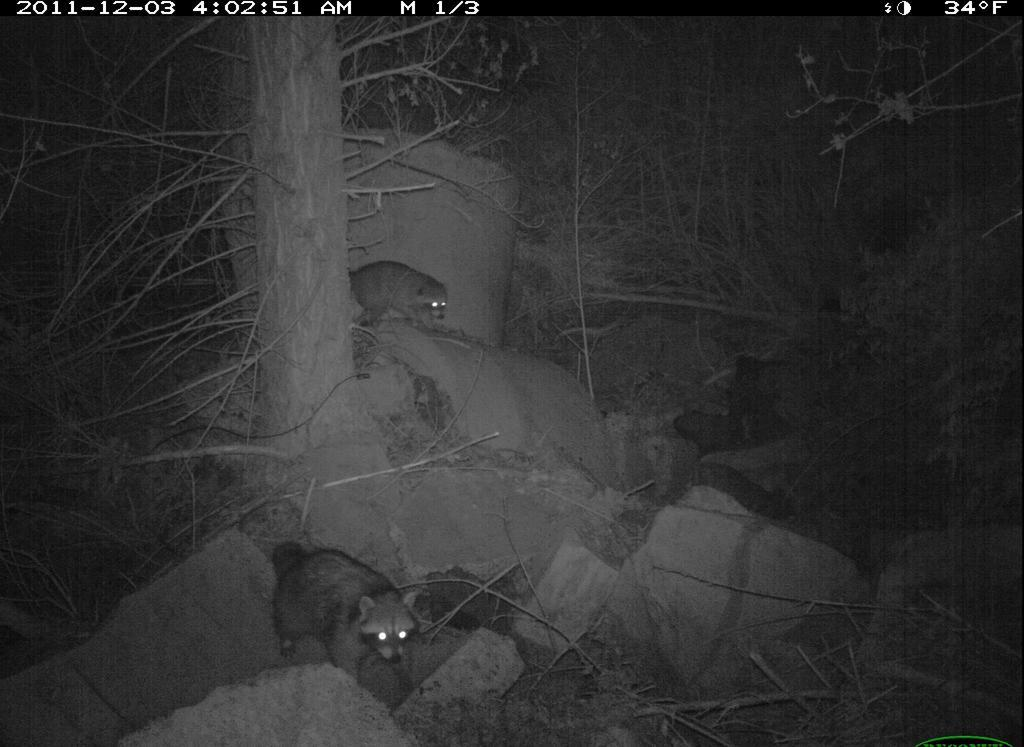raccoon: (257, 524, 443, 692), (336, 245, 469, 337)
